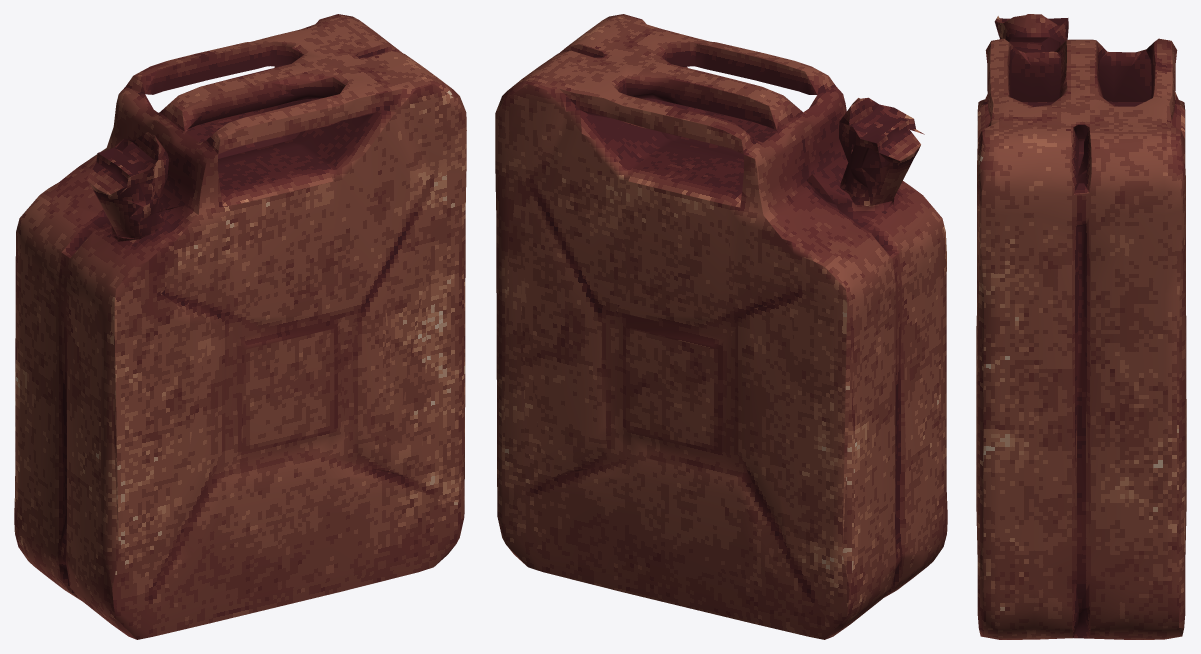
The model's file is metal_jerrycan.glb.
The picture shows the model from 3 angles, left to right: view 1: azimuth 30°, elevation 25°; view 2: azimuth 150°, elevation 25°; view 3: azimuth 270°, elevation 25°; orthographic projection. The views are drawn at different scales.
Visible parts, largest first — view 1: body; view 2: body; view 3: body.
Part boxes in pixels (left/top/right/bottom): body: left=14, top=14, right=466, bottom=639; body: left=495, top=14, right=947, bottom=639; body: left=976, top=14, right=1186, bottom=639.
Size of the model in its own units: 0.3507 by 0.4552 by 0.1719.
Materials: 1 (1 with a texture image).
